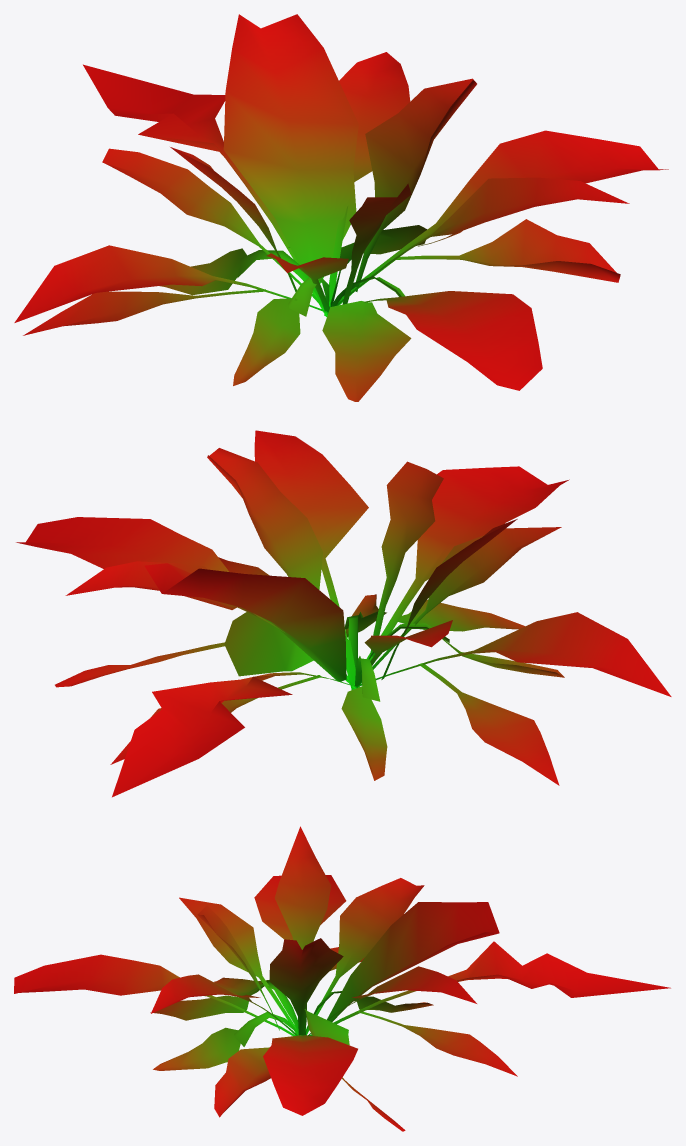
File: Var3_LOD1.fbx
3 renders of one model, top to bottom at view 1: azimuth 30°, elevation 25°; view 2: azimuth 150°, elevation 25°; view 3: azimuth 270°, elevation 25°, orthographic. The views are drawn at different scales.
Parts seen in each view (by area): view 1: _4bde_Var3_LOD1; view 2: _4bde_Var3_LOD1; view 3: _4bde_Var3_LOD1.
Boxes of the visible parts, x1,y1,x2,y2 form: _4bde_Var3_LOD1: (14,14,668,401); _4bde_Var3_LOD1: (16,430,671,797); _4bde_Var3_LOD1: (14,826,670,1131).
Bounding box in the file's own units: 107 × 33.62 × 125.
